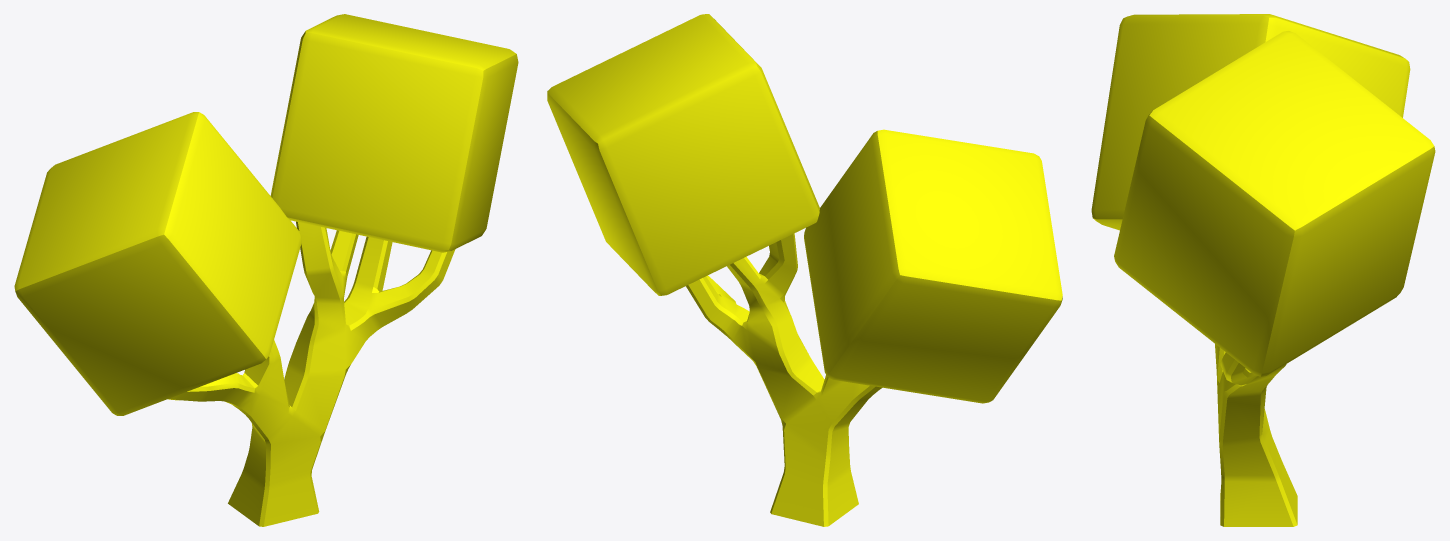
The model's file is Tree_3.glb.
3 renders of one model, left to right at view 1: azimuth 30°, elevation 25°; view 2: azimuth 150°, elevation 25°; view 3: azimuth 270°, elevation 25°, orthographic. The views are drawn at different scales.
Parts seen in each view (by area): view 1: Tree_3; view 2: Tree_3; view 3: Tree_3.
Boxes of the visible parts, x1,y1,x2,y2 form: Tree_3: (14, 14, 518, 526); Tree_3: (547, 14, 1062, 526); Tree_3: (1091, 14, 1435, 526).
Bounding box in the file's own units: 9.13 × 7.71 × 4.75.
Materials: 1 (1 with a texture image).
